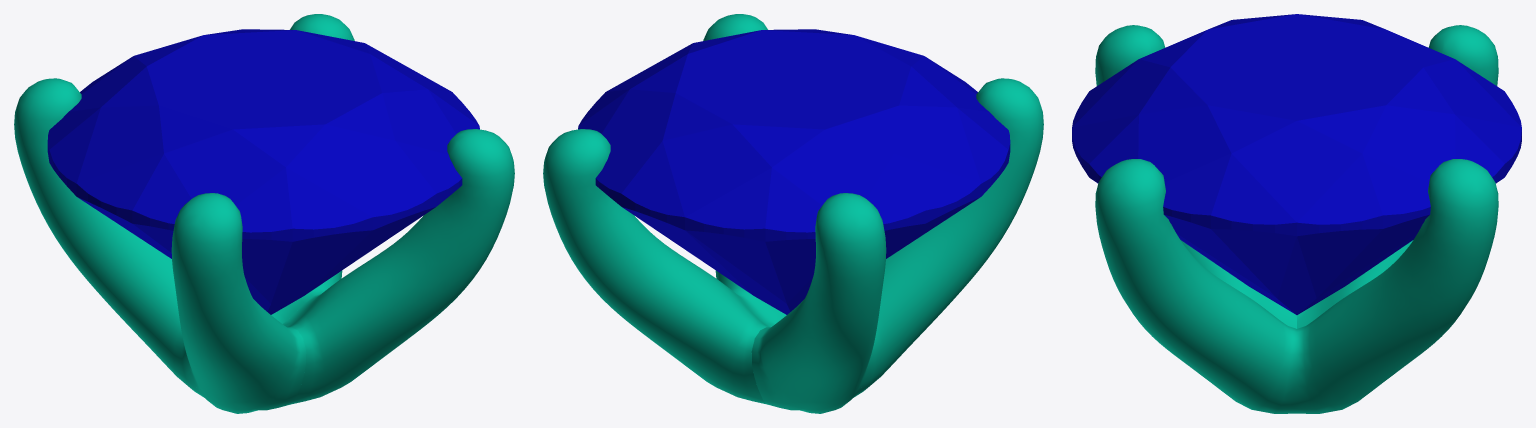
File: round.glb
3 views of the same model, side by side, from view 1: azimuth 30°, elevation 25°; view 2: azimuth 150°, elevation 25°; view 3: azimuth 270°, elevation 25° (orthographic). The views are drawn at different scales.
Parts seen in each view (by area): view 1: DIA-RNDHD-B1-1, MTL-HEAD-1 (×4); view 2: DIA-RNDHD-B1-1, MTL-HEAD-1 (×4); view 3: DIA-RNDHD-B1-1, MTL-HEAD-1 (×4).
Boxes of the visible parts, <box> form: DIA-RNDHD-B1-1: <box>47,29,479,314</box>; MTL-HEAD-1 (×4): <box>14,14,514,413</box>; DIA-RNDHD-B1-1: <box>578,29,1010,314</box>; MTL-HEAD-1 (×4): <box>543,14,1043,413</box>; DIA-RNDHD-B1-1: <box>1072,14,1521,314</box>; MTL-HEAD-1 (×4): <box>1095,25,1498,413</box>.
Bounding box in the file's own units: 8.1 × 6.37 × 8.1.
